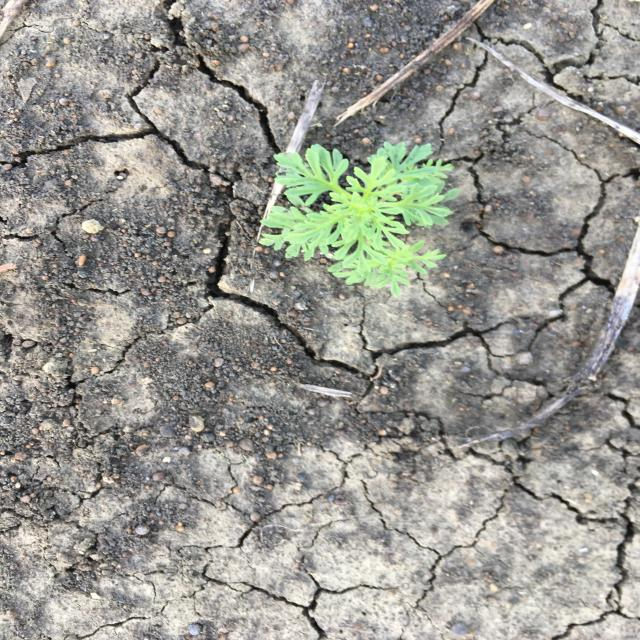Ragweed: (254, 139, 466, 298)
